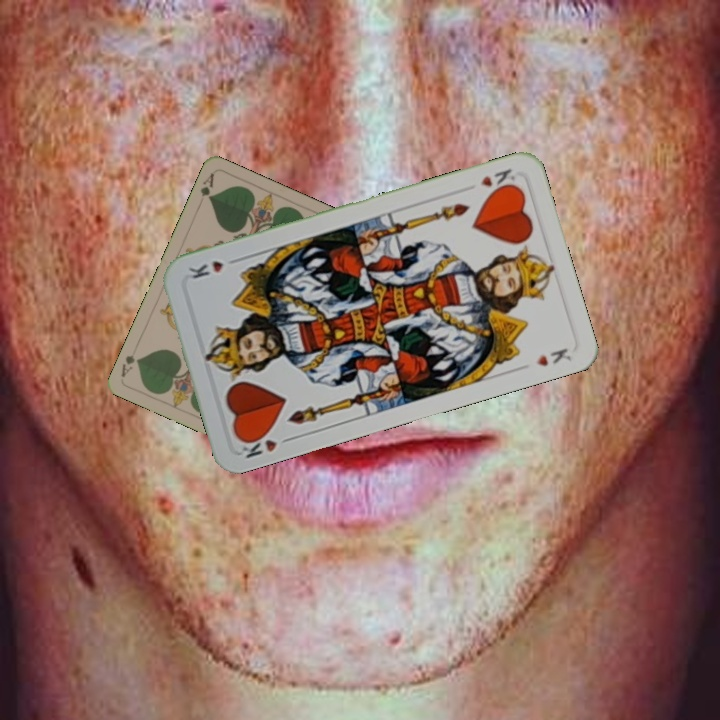GA: (196, 169, 217, 203)
HK: (236, 428, 296, 461), (476, 164, 515, 190)
